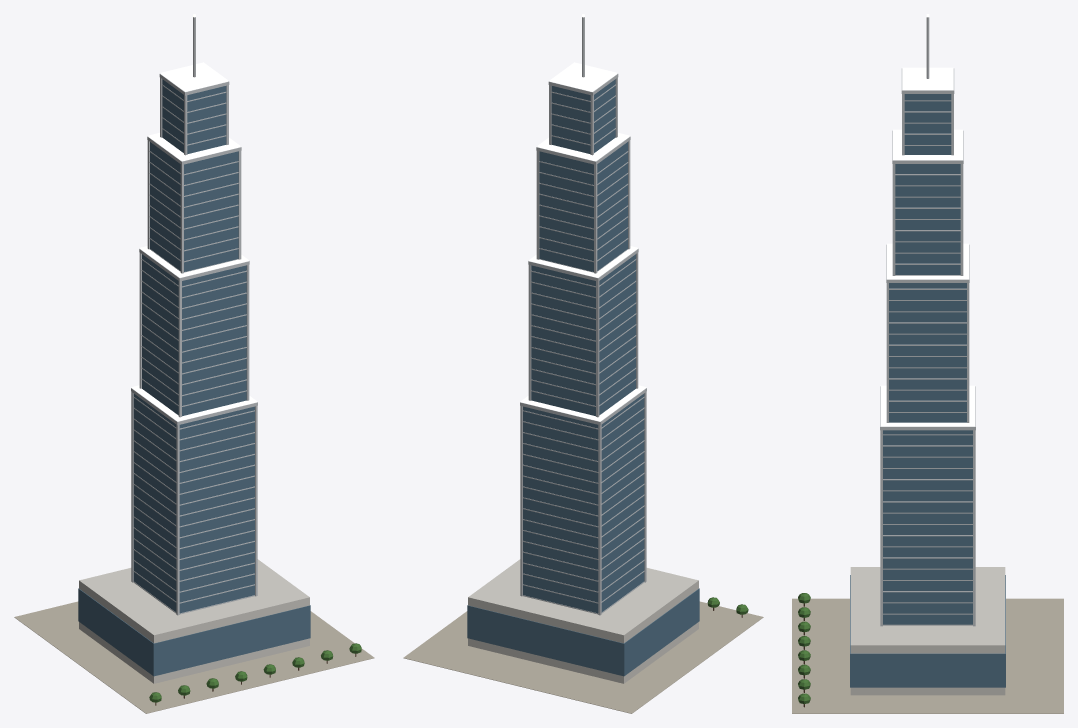
Rendered from skyscraper.glb.
3 views of the same model, side by side, from view 1: azimuth 30°, elevation 25°; view 2: azimuth 150°, elevation 25°; view 3: azimuth 270°, elevation 25° (orthographic). The views are drawn at different scales.
Parts seen in each view (by area): view 1: Skyscraper_static; view 2: Skyscraper_static; view 3: Skyscraper_static.
Boxes of the visible parts, x1,y1,x2,y2 form: Skyscraper_static: (14, 14, 374, 713); Skyscraper_static: (403, 14, 763, 713); Skyscraper_static: (792, 14, 1063, 713).
Bounding box in the file's own units: 88 × 229 × 88.
